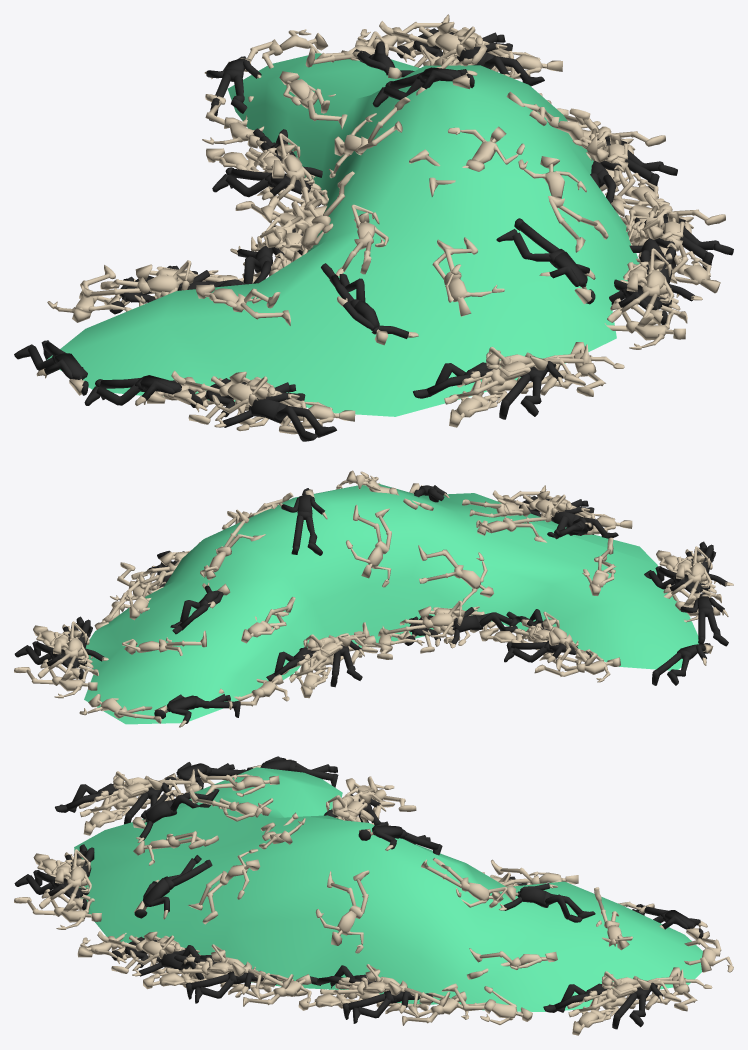
The model's file is Corpse_Pile.fbx.
3 views of the same model, one above another, from view 1: azimuth 30°, elevation 25°; view 2: azimuth 150°, elevation 25°; view 3: azimuth 270°, elevation 25° (orthographic). The views are drawn at different scales.
Parts seen in each view (by area): view 1: mesh_CorpsePile; view 2: mesh_CorpsePile; view 3: mesh_CorpsePile.
Part boxes in pixels (x1,y1,x2,y2): mesh_CorpsePile: (14,14,733,441); mesh_CorpsePile: (14,470,733,727); mesh_CorpsePile: (14,756,733,1035).
Bounding box in the file's own units: 704 × 158 × 781.
